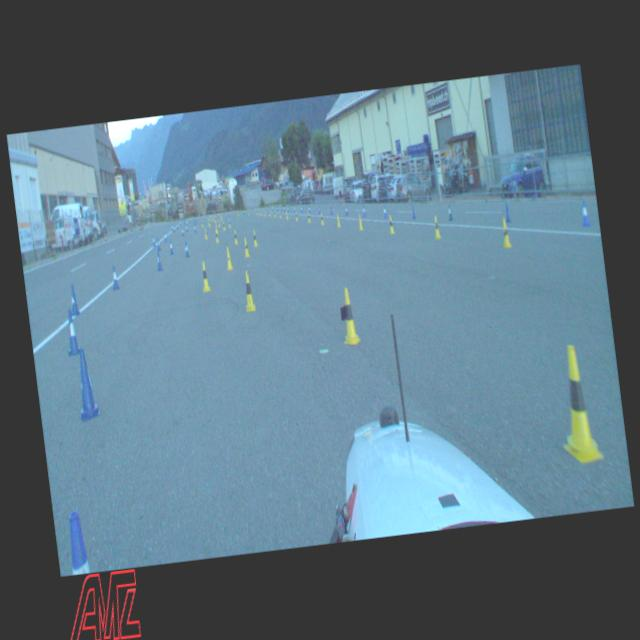blue_cone: (71, 348, 100, 420), (64, 510, 90, 574), (63, 308, 79, 354), (68, 284, 80, 315), (580, 199, 590, 226), (110, 264, 120, 288), (154, 248, 162, 270), (504, 202, 511, 222), (446, 203, 452, 220), (184, 240, 189, 257), (168, 238, 173, 254), (410, 206, 416, 218), (362, 204, 366, 217), (156, 237, 160, 250), (316, 204, 321, 214), (163, 230, 167, 242), (382, 205, 386, 217), (180, 225, 184, 236), (344, 206, 348, 216), (328, 206, 332, 214), (152, 235, 155, 245), (185, 224, 188, 232), (193, 224, 196, 232), (308, 204, 310, 213), (300, 205, 302, 212), (185, 219, 187, 226)
yellow_cone: (550, 342, 604, 462), (338, 286, 360, 346), (241, 270, 256, 310), (198, 260, 210, 291), (500, 217, 511, 247), (432, 214, 441, 238), (225, 247, 233, 270), (242, 237, 250, 257), (388, 214, 394, 233), (252, 230, 258, 246), (357, 215, 363, 230), (232, 230, 238, 243), (214, 230, 219, 242), (336, 214, 340, 226), (284, 210, 288, 220), (294, 210, 298, 220), (204, 228, 208, 238), (214, 224, 218, 234), (320, 212, 323, 224), (307, 211, 310, 222), (278, 210, 282, 218), (222, 221, 225, 230), (208, 218, 211, 226), (207, 219, 210, 226), (268, 210, 271, 217), (263, 209, 266, 216), (228, 218, 230, 227), (212, 215, 215, 221), (200, 218, 202, 226), (260, 208, 262, 216), (273, 210, 275, 217), (218, 220, 220, 227), (214, 216, 216, 222)
